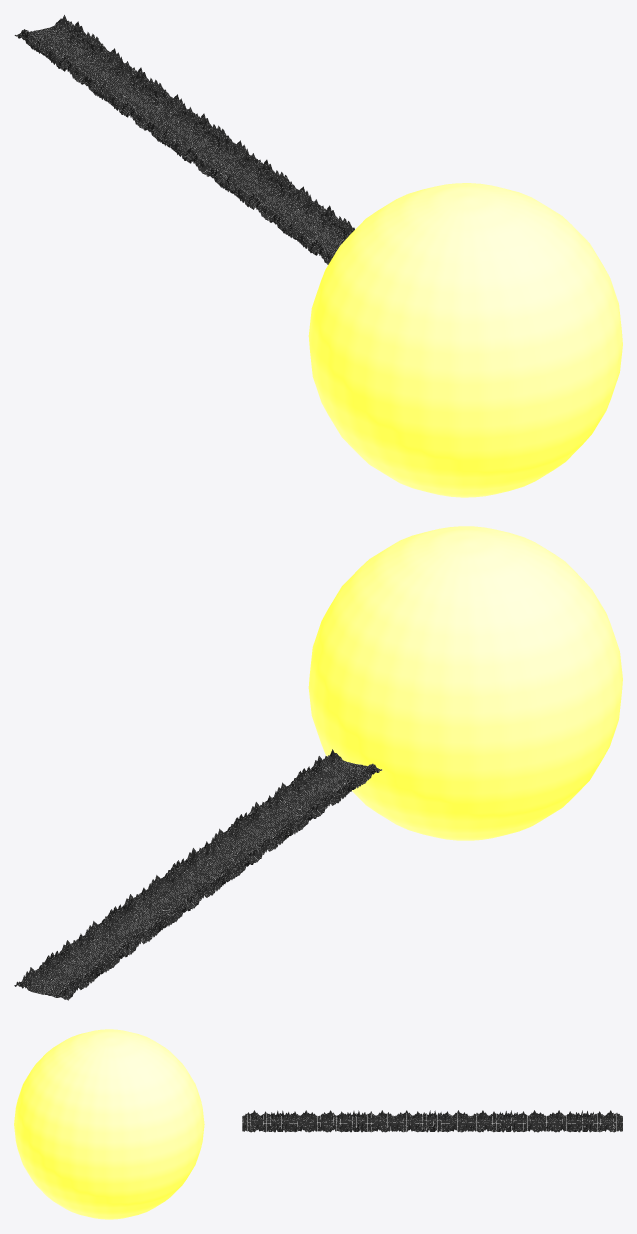
The model's file is retrowave-transformed.glb.
3 views of the same model, one above another, from view 1: azimuth 30°, elevation 25°; view 2: azimuth 150°, elevation 25°; view 3: azimuth 270°, elevation 25° (orthographic). The views are drawn at different scales.
Parts seen in each view (by area): view 1: Sphere, Plane; view 2: Sphere, Plane; view 3: Sphere, Plane.
Boxes of the visible parts, bbox=[...] form: Sphere: bbox=[308, 183, 622, 497]; Plane: bbox=[14, 15, 354, 264]; Sphere: bbox=[308, 526, 622, 840]; Plane: bbox=[14, 749, 382, 1000]; Sphere: bbox=[14, 1029, 204, 1219]; Plane: bbox=[242, 1110, 622, 1132].
Size of the model in its own units: 80 by 80 by 256.
